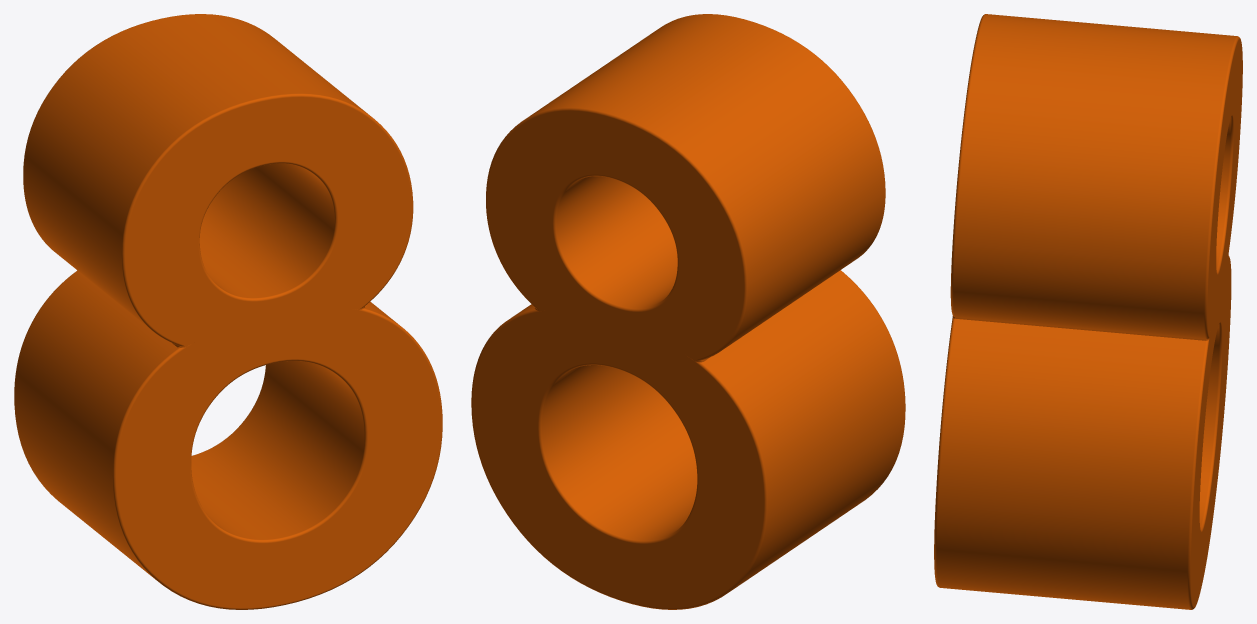
3 views of the same model, side by side, from view 1: azimuth 30°, elevation 25°; view 2: azimuth 150°, elevation 25°; view 3: azimuth 270°, elevation 25° (orthographic). The views are drawn at different scales.
Visible parts, largest first — view 1: Text; view 2: Text; view 3: Text.
Boxes of the visible parts, x1,y1,x2,y2 form: Text: [14, 14, 442, 609]; Text: [471, 14, 905, 609]; Text: [934, 14, 1242, 609].
Bounding box in the file's own units: 97.2 × 143 × 73.45.
